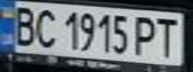1: (57, 8, 81, 51), (93, 10, 115, 53)
5: (109, 11, 133, 55)
9: (75, 9, 96, 52)
B: (6, 2, 39, 47)
C: (30, 6, 60, 48)
P: (130, 12, 160, 56)
T: (151, 15, 184, 57)
